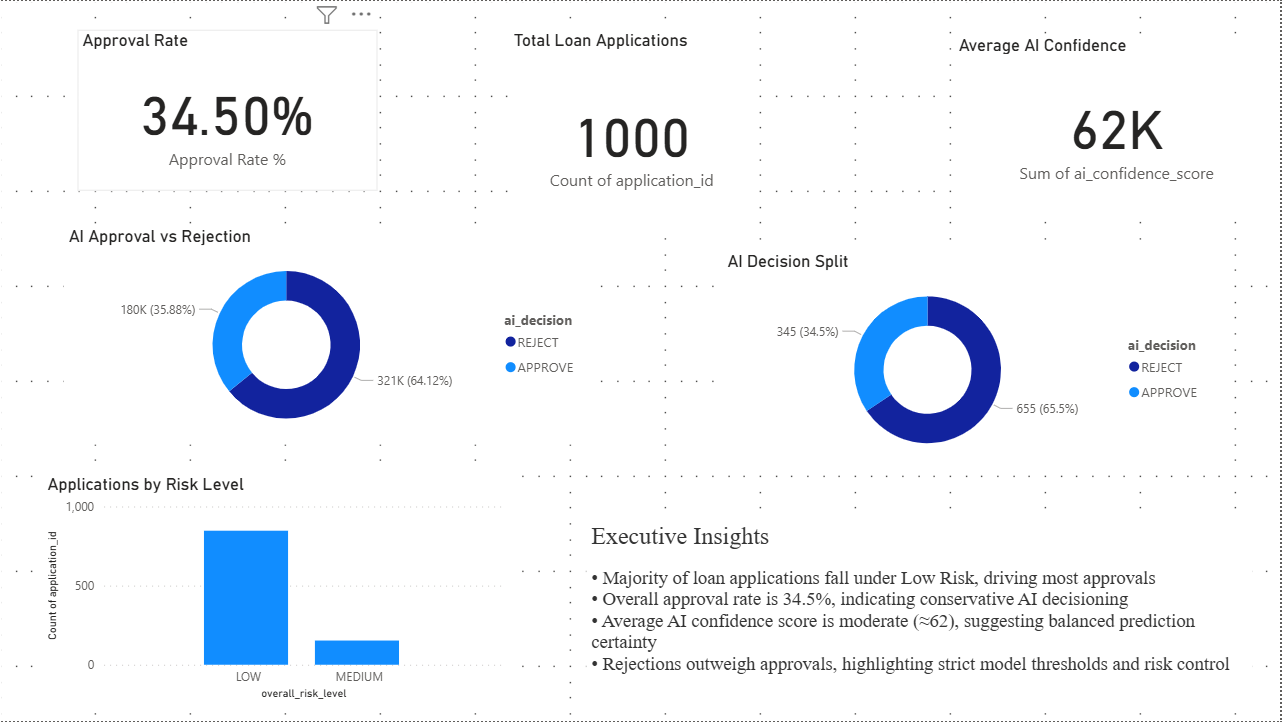

The dashboard page shown, as its layout file describes it:
{"tool":"powerbi","page":{"name":"Executive Summary","canvas":[1280,720],"ordinal":0},"visuals":[{"type":"donutChart","title":"AI Approval vs Rejection","fields":{"Category":["ai_decisions.ai_decision"],"Y":["Sum(ai_decisions.decision_id)"]},"box":[63.8,225,532.5,218.8],"z":0},{"type":"card","title":"Total Loan Applications","fields":{"Values":["CountNonNull(ai_decisions.application_id)"]},"box":[508.8,28.8,246.2,205],"z":2000},{"type":"card","title":"Approval Rate","fields":{"Values":["ai_decisions.Approval Rate %"]},"box":[77.5,28.8,300,161.2],"z":2001},{"type":"card","title":"Average AI Confidence","fields":{"Values":["Sum(ai_decisions.ai_confidence_score)"]},"box":[953.8,33.8,326.2,180],"z":2002},{"type":"donutChart","title":"AI Decision Split","fields":{"Category":["ai_decisions.ai_decision"],"Y":["CountNonNull(ai_decisions.application_id)"]},"box":[722.5,250,497.5,218.8],"z":2003},{"type":"clusteredColumnChart","title":"Applications by Risk Level","fields":{"Category":["risk_evaluation.overall_risk_level"],"Y":["CountNonNull(risk_evaluation.application_id)"]},"box":[42.5,472.5,466.2,231.2],"z":2004},{"type":"textbox","box":[586.2,516.2,666.2,187.5],"z":2005}]}

Visuals, with their boxes in screenshot pixels (x1, y1, x2, y2), scaled from the page's 1280x720 canvas onto the 1282x722 screenshot:
"AI Approval vs Rejection" donutChart: 64,226,597,445
"Total Loan Applications" card: 510,29,756,234
"Approval Rate" card: 78,29,378,191
"Average AI Confidence" card: 955,34,1281,214
"AI Decision Split" donutChart: 724,251,1222,470
"Applications by Risk Level" clusteredColumnChart: 43,474,509,706
textbox: 587,518,1254,706
